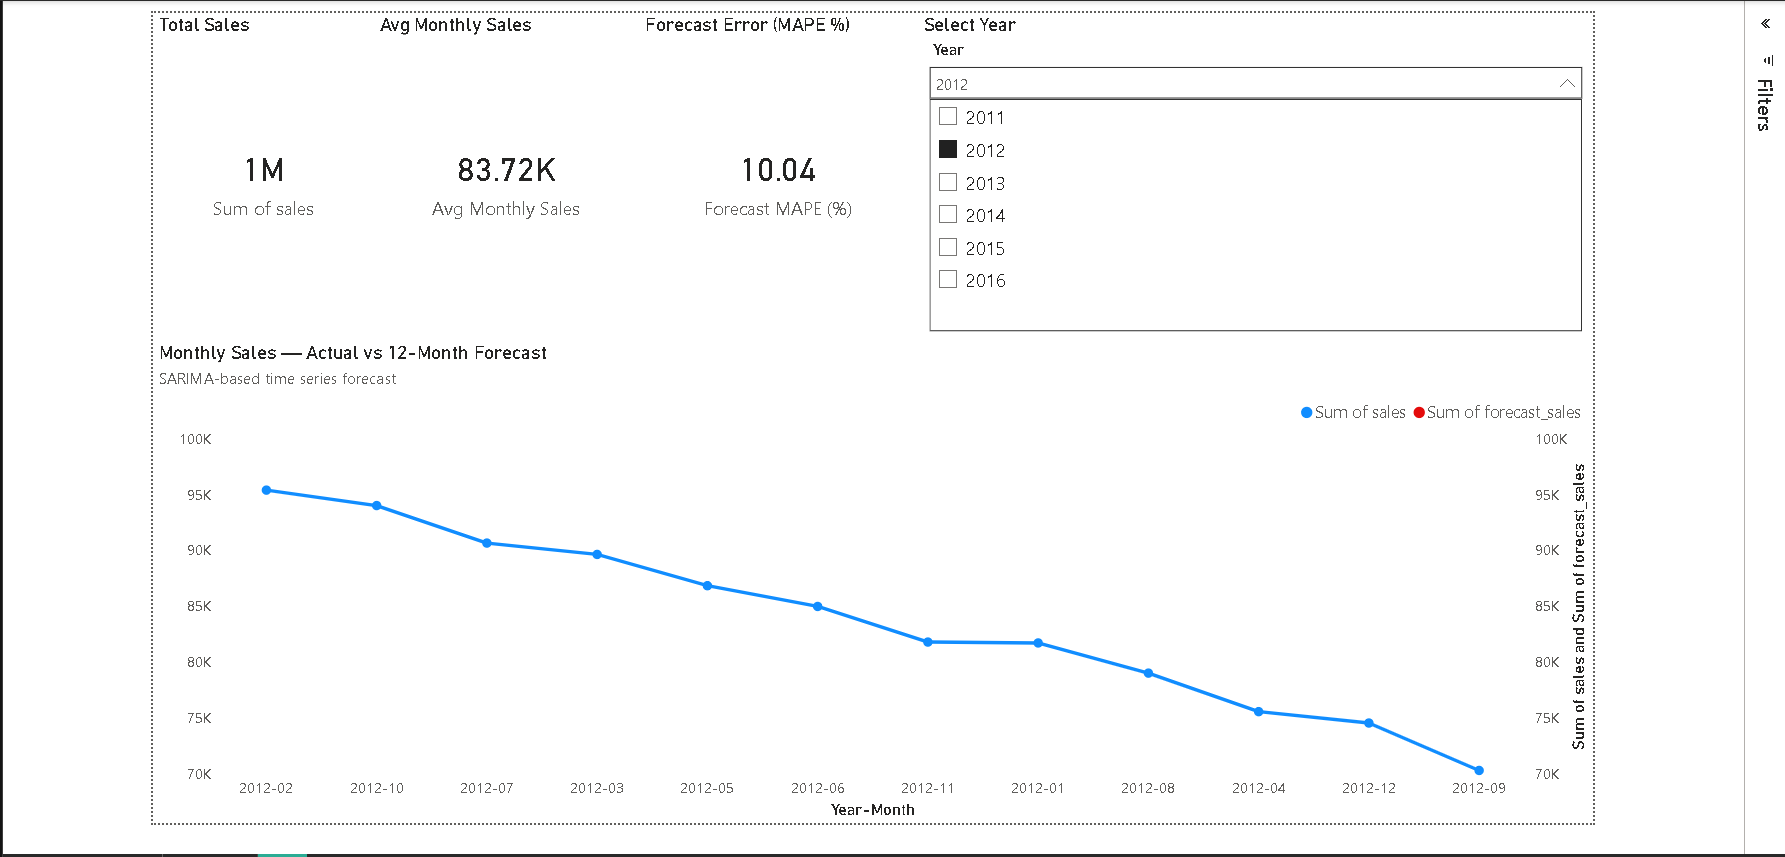

Layout of this report page (visuals, bound fields, positions):
{"tool":"powerbi","page":{"name":"Page 1","canvas":[1280,720],"ordinal":0},"visuals":[{"type":"lineChart","title":"Monthly Sales — Actual vs 12-Month Forecast","fields":{"Category":["Calendar.Year-Month"],"Y":["Sum(superstore_sales_cleaned.sales)"],"Y2":["Sum(sales_forecast_12_months.forecast_sales)"]},"box":[0,291.4,1280,430],"z":0},{"type":"card","title":"Total Sales","fields":{"Values":["Sum(superstore_sales_cleaned.sales)"]},"box":[0,0,196.2,277.5],"z":1000},{"type":"card","title":"Avg Monthly Sales","fields":{"Values":["superstore_sales_cleaned.Avg Monthly Sales"]},"box":[196.2,0,235,278.8],"z":2000},{"type":"card","title":"Forecast Error (MAPE %)","fields":{"Values":["superstore_sales_cleaned.Forecast MAPE (%)"]},"box":[432.2,0,247.8,277.8],"z":3000},{"type":"slicer","title":"Select Year","fields":{"Values":["Calendar.Year"]},"box":[680,0,600,277.5],"z":4000}]}

Visuals, with their boxes on the page's 1280x720 design canvas (x1, y1, x2, y2). These are canvas units, not pixel positions in the 1785x857 screenshot, which may show the page scaled, cropped or inside an application window:
"Monthly Sales — Actual vs 12-Month Forecast" lineChart: [left=0, top=291, right=1280, bottom=721]
"Total Sales" card: [left=0, top=0, right=196, bottom=278]
"Avg Monthly Sales" card: [left=196, top=0, right=431, bottom=279]
"Forecast Error (MAPE %)" card: [left=432, top=0, right=680, bottom=278]
"Select Year" slicer: [left=680, top=0, right=1280, bottom=278]
